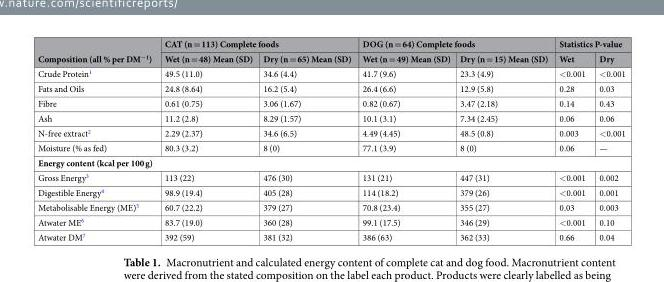table: (37, 37, 624, 242)
table column: (37, 37, 157, 242), (157, 37, 257, 242), (257, 37, 356, 242), (356, 37, 454, 242), (454, 37, 552, 242), (552, 37, 591, 242), (591, 37, 624, 242)
table column header: (37, 37, 624, 65)
table projected row header: (37, 154, 624, 169)
table row: (37, 50, 624, 65), (37, 65, 624, 80), (37, 80, 624, 95), (37, 95, 624, 110), (37, 110, 624, 125), (37, 125, 624, 140), (37, 154, 624, 169), (37, 169, 624, 184), (37, 184, 624, 199), (37, 199, 624, 214), (37, 214, 624, 229), (37, 140, 624, 154), (37, 37, 624, 50), (37, 229, 624, 242)
table spanning cell: (37, 37, 157, 65), (157, 37, 356, 50), (356, 37, 552, 50), (552, 37, 624, 50)
